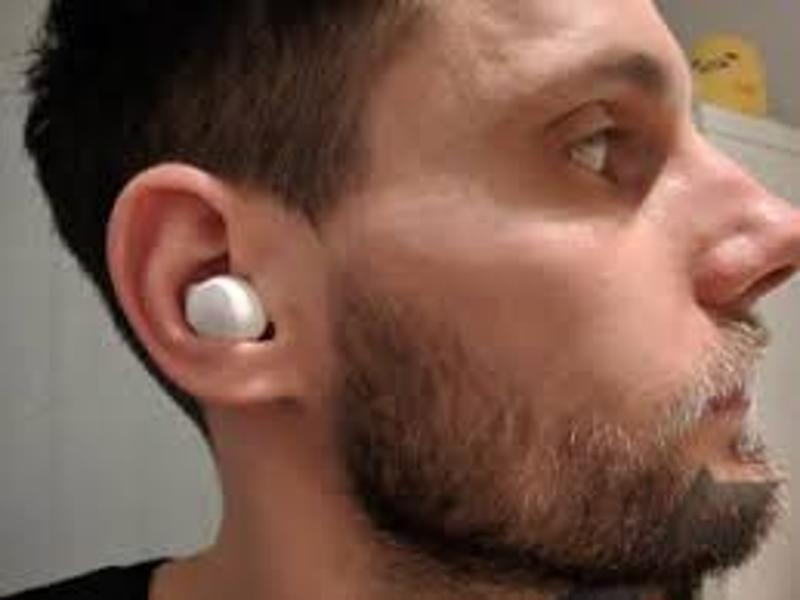headphone: (175, 269, 273, 352)
